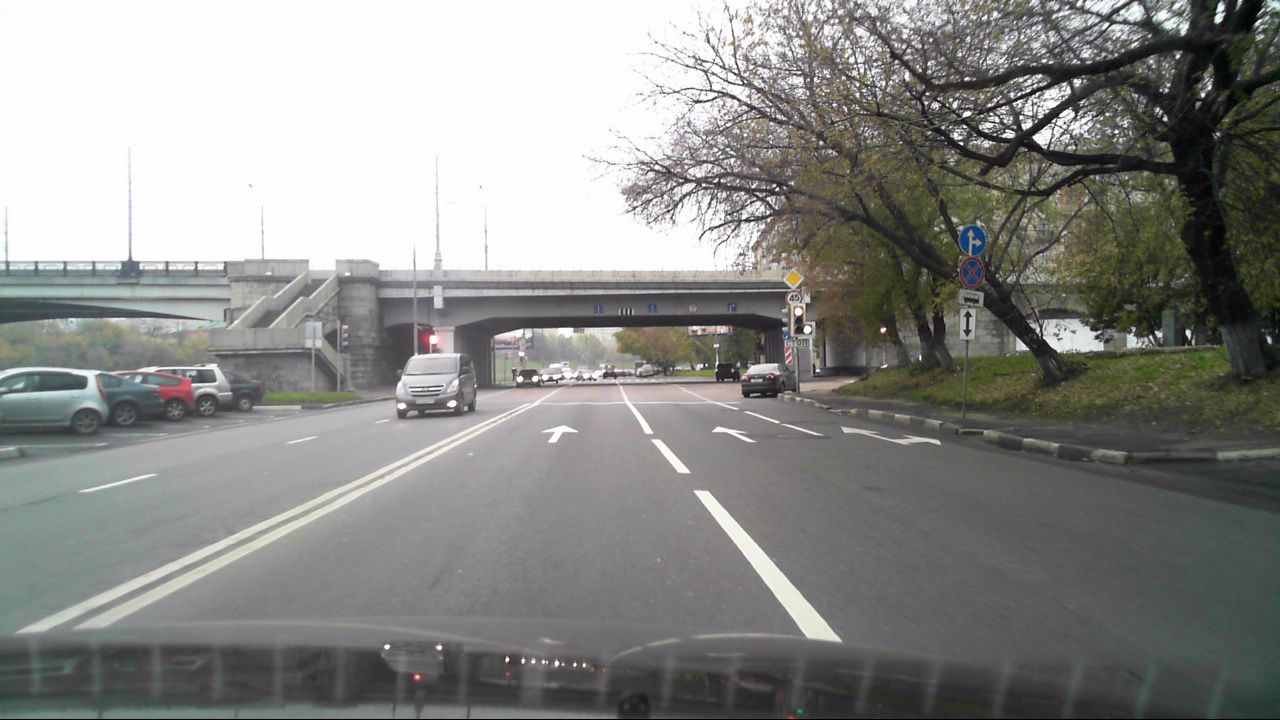No Parking: (958, 257, 986, 288)
